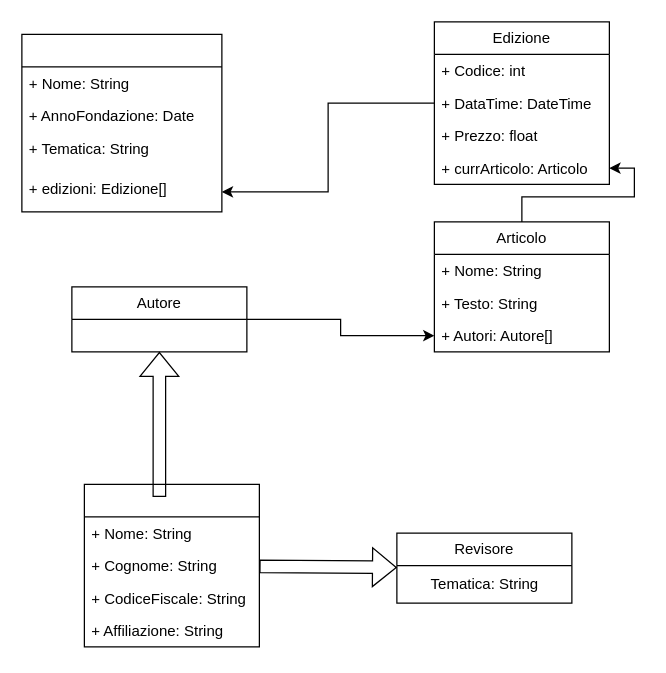
The diagram is 666 pixels wide and 673 high, and some of its shapes have lost their labels. The box of each missing label's shape, as (x1, y1, x2, y2) in pixels:
Persona: (83, 483, 259, 647)
Rivista: (21, 33, 222, 212)
